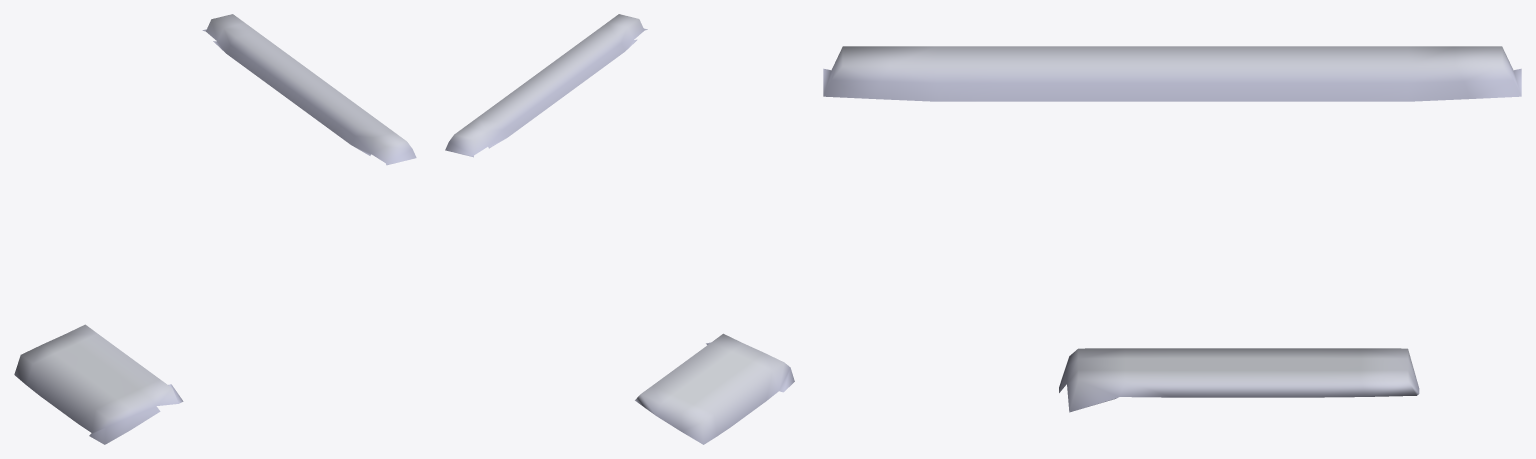
The model's file is category.dex.xs.snow.glb.
3 renders of one model, left to right at view 1: azimuth 30°, elevation 25°; view 2: azimuth 150°, elevation 25°; view 3: azimuth 270°, elevation 25°, orthographic. The views are drawn at different scales.
Parts seen in each view (by area): view 1: tier.4, snow; view 2: tier.4, snow; view 3: snow, tier.4.
Boxes of the visible parts, <box> form: tier.4: <box>14,324,183,444</box>; snow: <box>202,14,416,165</box>; tier.4: <box>635,333,794,444</box>; snow: <box>445,14,647,157</box>; snow: <box>823,46,1521,101</box>; tier.4: <box>1059,348,1419,412</box>.
Size of the model in its own units: 1.54 by 1.66 by 1.93.
